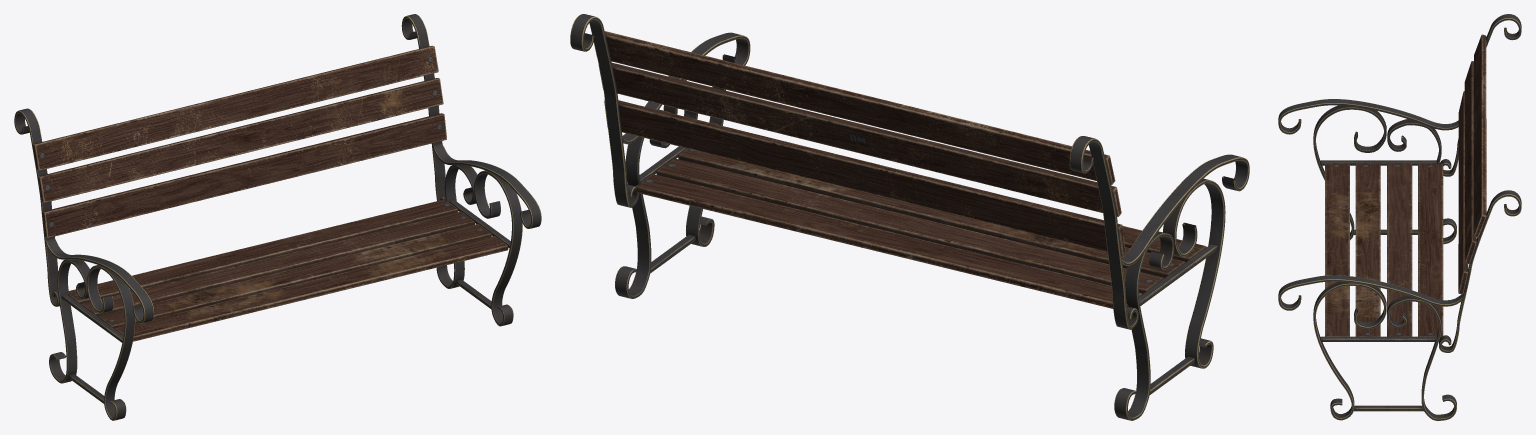
The picture shows the model from 3 angles, left to right: view 1: azimuth 30°, elevation 25°; view 2: azimuth 150°, elevation 25°; view 3: azimuth 270°, elevation 25°; orthographic projection. The views are drawn at different scales.
Visible parts, largest first — view 1: Bench__Park; view 2: Bench__Park; view 3: Bench__Park.
Boxes of the visible parts, x1,y1,x2,y2 form: Bench__Park: [14, 14, 541, 420]; Bench__Park: [570, 14, 1249, 420]; Bench__Park: [1278, 14, 1521, 420].
Size of the model in its own units: 2.32 by 1.35 by 1.31.
1 material, 1 textured.
